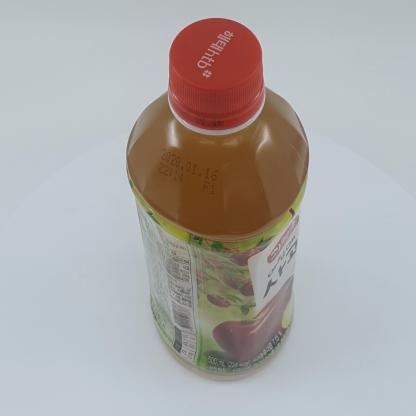--------500ML: (126, 18, 309, 380)
